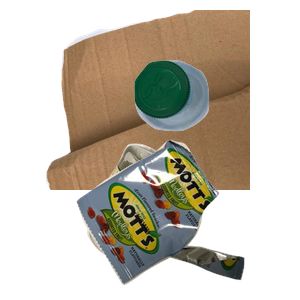cardboard: (43, 10, 283, 190)
glass: (85, 141, 275, 300)
plastic: (132, 58, 300, 182)
trash: (74, 137, 300, 300)
